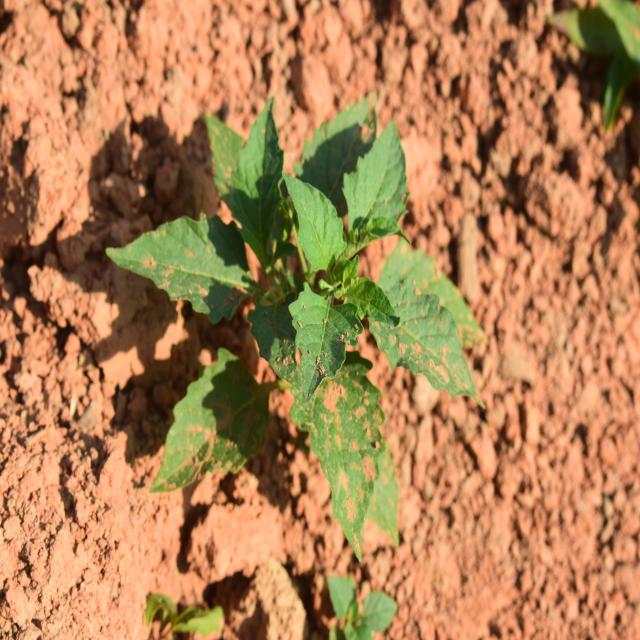Black_nightshade: (125, 96, 458, 526)
